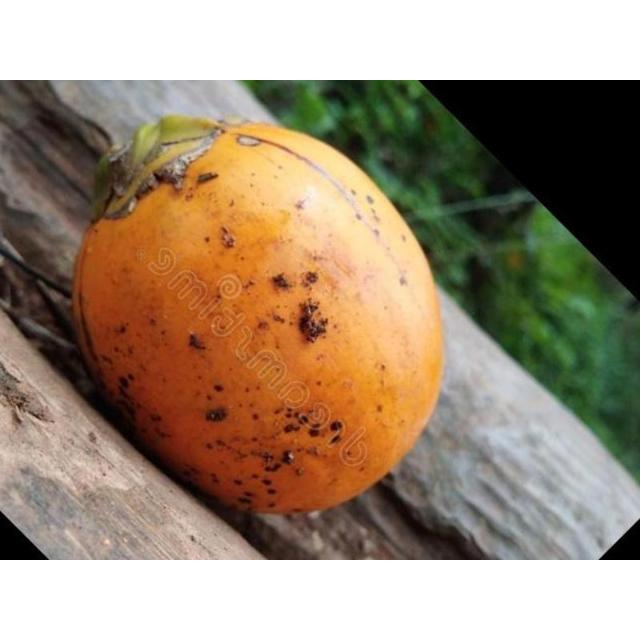good: (65, 113, 447, 525)
